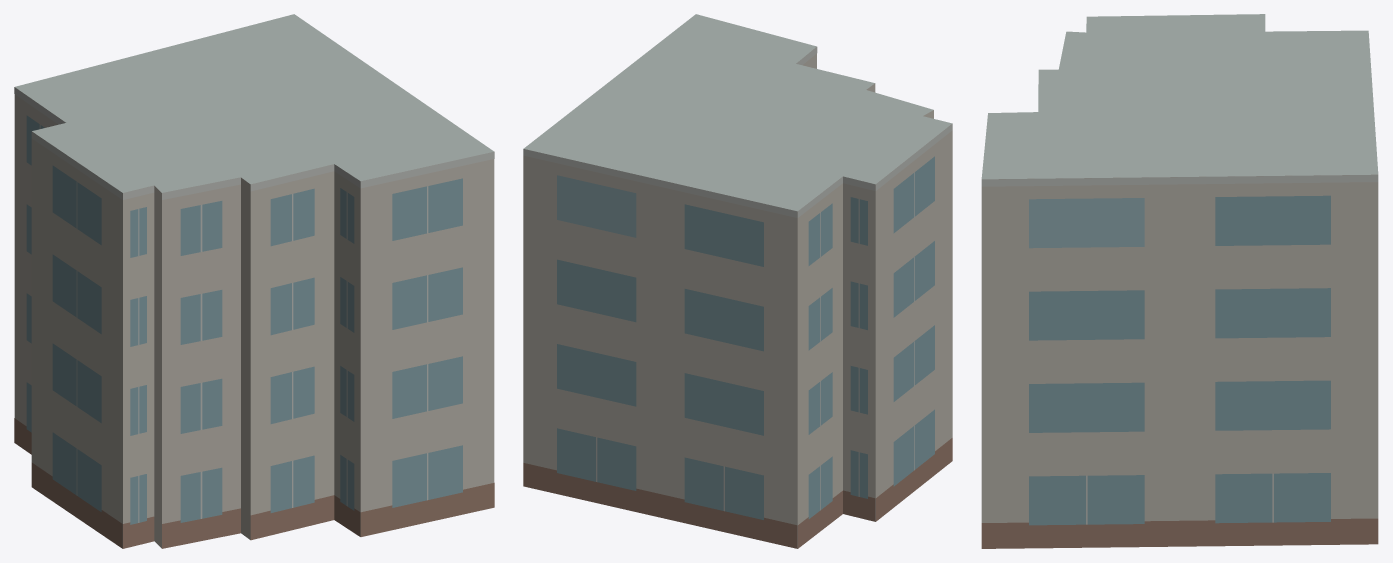
Rendered from survey-upis-32520334.glb.
3 renders of one model, left to right at view 1: azimuth 30°, elevation 25°; view 2: azimuth 150°, elevation 25°; view 3: azimuth 270°, elevation 25°, orthographic. The views are drawn at different scales.
Parts seen in each view (by area): view 1: survey-upis-32520334.tmp; view 2: survey-upis-32520334.tmp; view 3: survey-upis-32520334.tmp.
Part boxes in pixels (left/top/right/bottom): survey-upis-32520334.tmp: left=14, top=14, right=494, bottom=548; survey-upis-32520334.tmp: left=523, top=14, right=952, bottom=548; survey-upis-32520334.tmp: left=981, top=14, right=1378, bottom=548.
Size of the model in its own units: 11.62 by 12.1 by 11.79.
